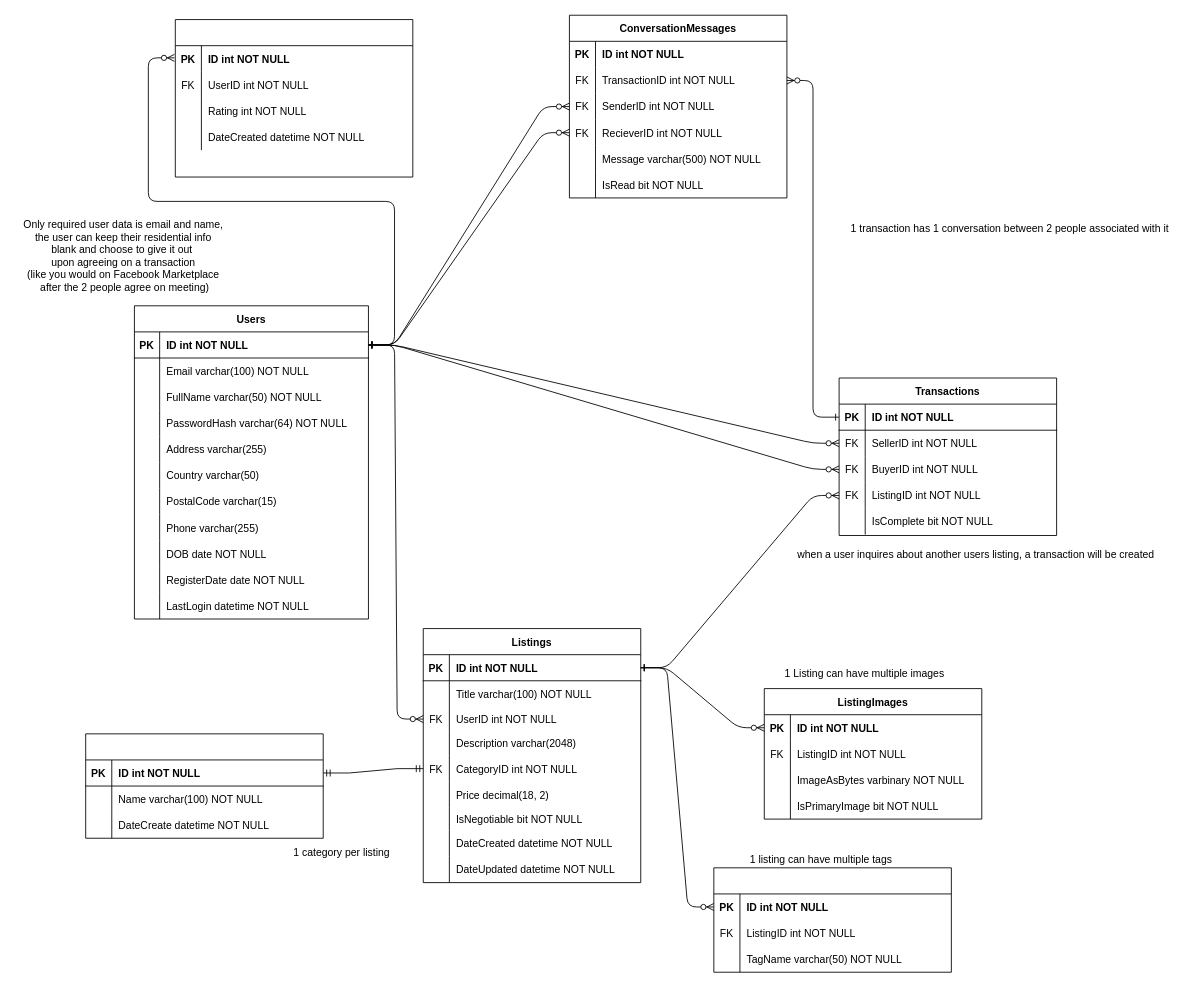
This 1191x987 diagram has some shape labels left out. The shapes that lost their labels are listed below. From the top down, each one's box as (x1, y1, x2, y2) in pixels, then its label:
(174, 19, 413, 177): UserRatings
(85, 733, 323, 838): ListingCategories
(713, 867, 951, 972): ListingTags
